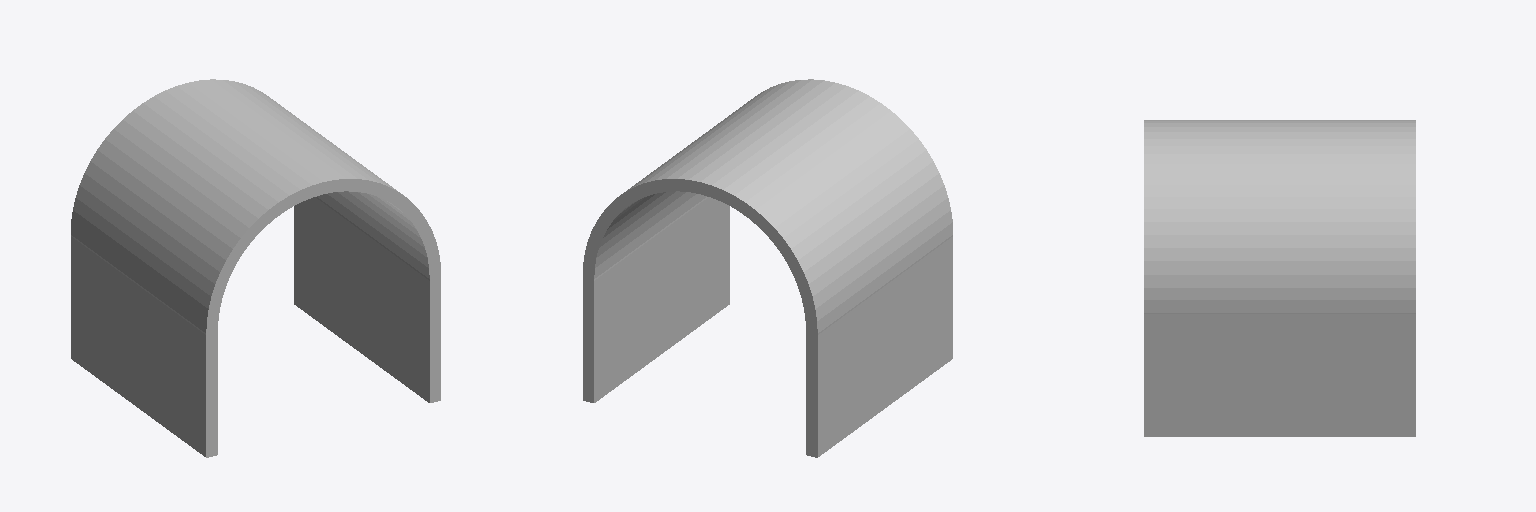
File: tunnel.obj
3 renders of one model, left to right at view 1: azimuth 30°, elevation 25°; view 2: azimuth 150°, elevation 25°; view 3: azimuth 270°, elevation 25°, orthographic.
Visible parts, largest first — view 1: Cylinder; view 2: Cylinder; view 3: Cylinder.
Part boxes in pixels (x1,y1,x2,y2): Cylinder: (71,79,440,457); Cylinder: (583,79,952,457); Cylinder: (1144,120,1415,436).
Bounding box in the file's own units: 0.99 × 0.9949 × 0.99.